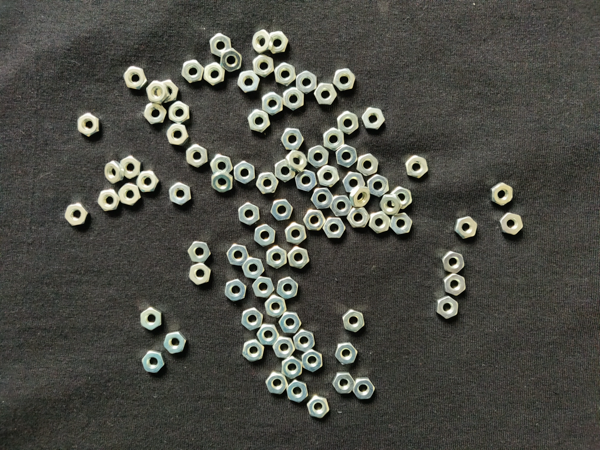nut: (65, 202, 89, 227), (123, 66, 148, 90), (146, 81, 170, 105), (220, 48, 243, 73), (77, 113, 100, 137), (142, 350, 165, 374), (120, 156, 143, 180), (248, 109, 271, 133), (406, 155, 429, 179), (500, 213, 524, 236), (164, 331, 187, 354), (169, 183, 192, 206), (242, 257, 265, 280), (237, 70, 260, 93), (287, 247, 310, 270), (293, 329, 316, 352), (266, 372, 289, 395), (307, 397, 330, 420), (335, 343, 358, 366), (252, 55, 275, 78), (295, 170, 318, 193), (317, 165, 340, 188), (314, 83, 337, 106), (436, 296, 459, 319), (140, 307, 162, 331), (168, 101, 190, 125), (203, 62, 225, 86), (186, 145, 208, 169), (252, 277, 276, 299), (243, 339, 265, 363), (343, 309, 365, 333), (281, 128, 305, 150), (337, 111, 359, 135), (357, 153, 379, 177), (369, 211, 391, 235), (210, 33, 231, 58), (275, 159, 296, 184), (118, 184, 141, 206), (136, 171, 159, 193), (144, 103, 167, 125), (166, 124, 189, 146), (182, 60, 204, 83), (234, 161, 256, 184), (225, 279, 247, 302), (227, 244, 250, 266), (241, 308, 263, 331), (257, 324, 280, 346), (238, 203, 260, 226), (277, 277, 299, 300), (279, 312, 302, 334), (287, 380, 309, 403), (333, 373, 356, 395), (353, 377, 375, 400), (285, 223, 307, 246), (275, 63, 297, 86), (308, 145, 330, 168), (333, 69, 356, 91), (323, 128, 345, 151), (336, 145, 358, 168), (362, 108, 385, 130), (343, 171, 366, 193), (379, 194, 402, 216), (444, 274, 466, 297), (455, 217, 478, 239), (491, 183, 513, 206), (282, 356, 303, 380), (253, 30, 274, 54), (283, 87, 304, 111), (391, 186, 412, 210), (98, 190, 120, 212), (189, 263, 211, 285), (265, 296, 287, 318), (273, 337, 295, 359), (254, 225, 276, 247), (443, 252, 465, 274), (188, 242, 211, 263), (302, 350, 323, 373), (256, 173, 279, 194), (271, 200, 294, 221), (286, 150, 307, 173), (323, 218, 346, 239), (347, 207, 370, 228), (368, 175, 389, 198), (390, 214, 413, 235), (263, 92, 283, 116), (157, 80, 178, 102), (212, 171, 233, 193), (304, 210, 326, 231), (330, 196, 352, 217), (350, 186, 371, 208), (210, 155, 233, 175), (267, 246, 287, 269), (297, 71, 317, 94), (311, 189, 334, 209), (105, 161, 124, 184), (270, 31, 289, 53)
